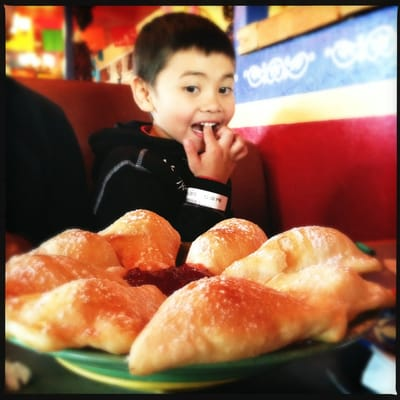pasta: (12, 76, 155, 198)
salad: (127, 223, 376, 375), (185, 217, 268, 276)
